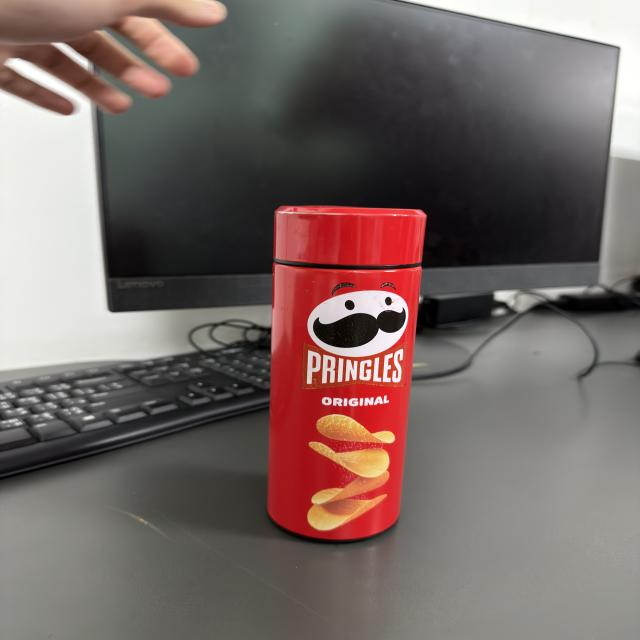water bottle: (262, 200, 430, 544)
